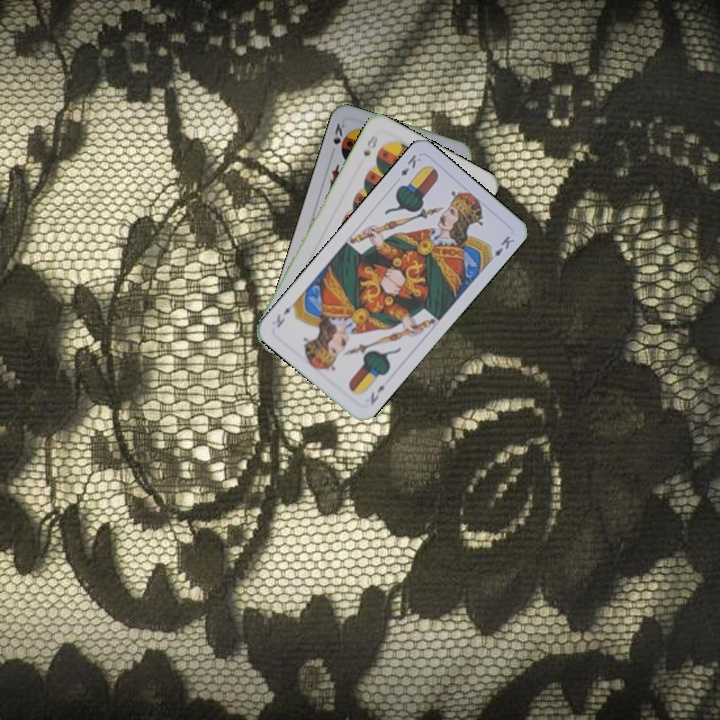EK: (396, 150, 424, 179), (366, 381, 387, 408)
S8: (359, 131, 381, 159)
SK: (327, 119, 350, 158)
